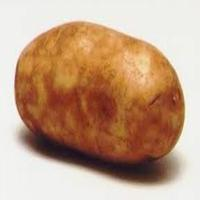biodegradable: (14, 18, 186, 163)
